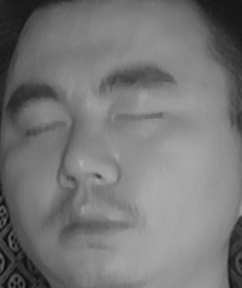blink: (114, 98, 168, 134), (20, 110, 69, 144)
mouth: (50, 197, 138, 253)
